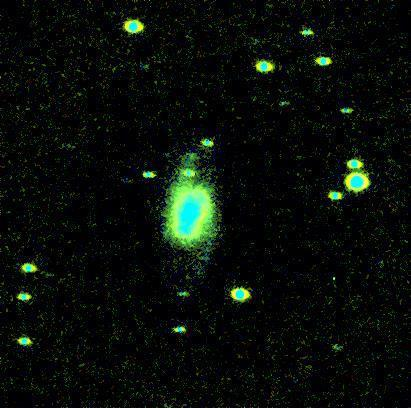star: (177, 140, 207, 170)
